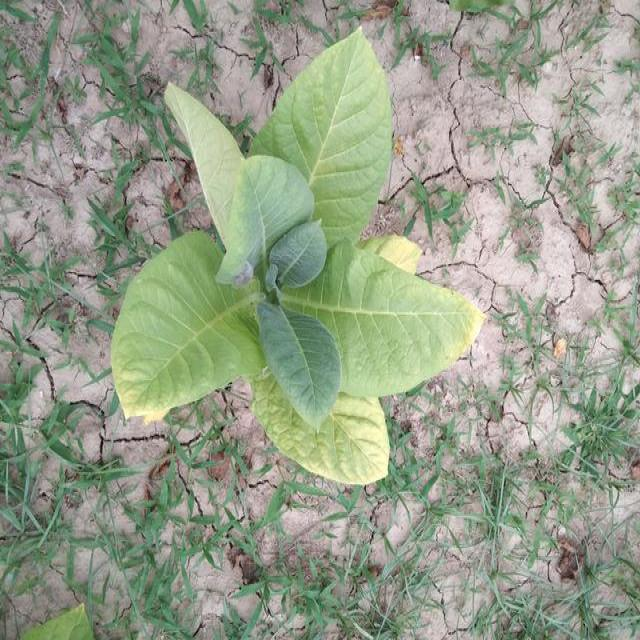crop: (102, 19, 484, 488)
